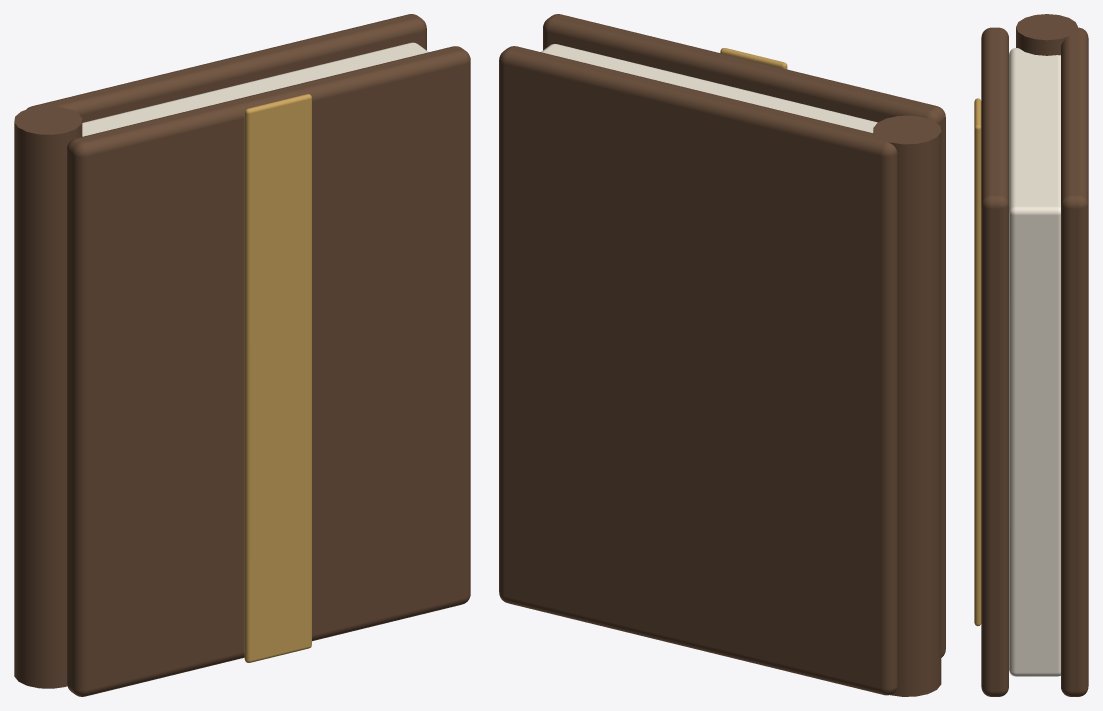
Rendered from book.glb.
3 renders of one model, left to right at view 1: azimuth 30°, elevation 25°; view 2: azimuth 150°, elevation 25°; view 3: azimuth 270°, elevation 25°, orthographic. The views are drawn at different scales.
Visible parts, largest first — view 1: book-cover, prop-book; view 2: prop-book, book-cover; view 3: prop-book, book-cover.
Boxes of the visible parts, box(x1,y1,x2,y2) form: book-cover: box(67, 46, 470, 696); prop-book: box(14, 14, 428, 688); prop-book: box(499, 44, 941, 696); book-cover: box(543, 14, 945, 657); prop-book: box(1009, 14, 1088, 696); book-cover: box(974, 27, 1008, 696).
Bounding box in the file's own units: 0.127 × 0.16 × 0.033.
